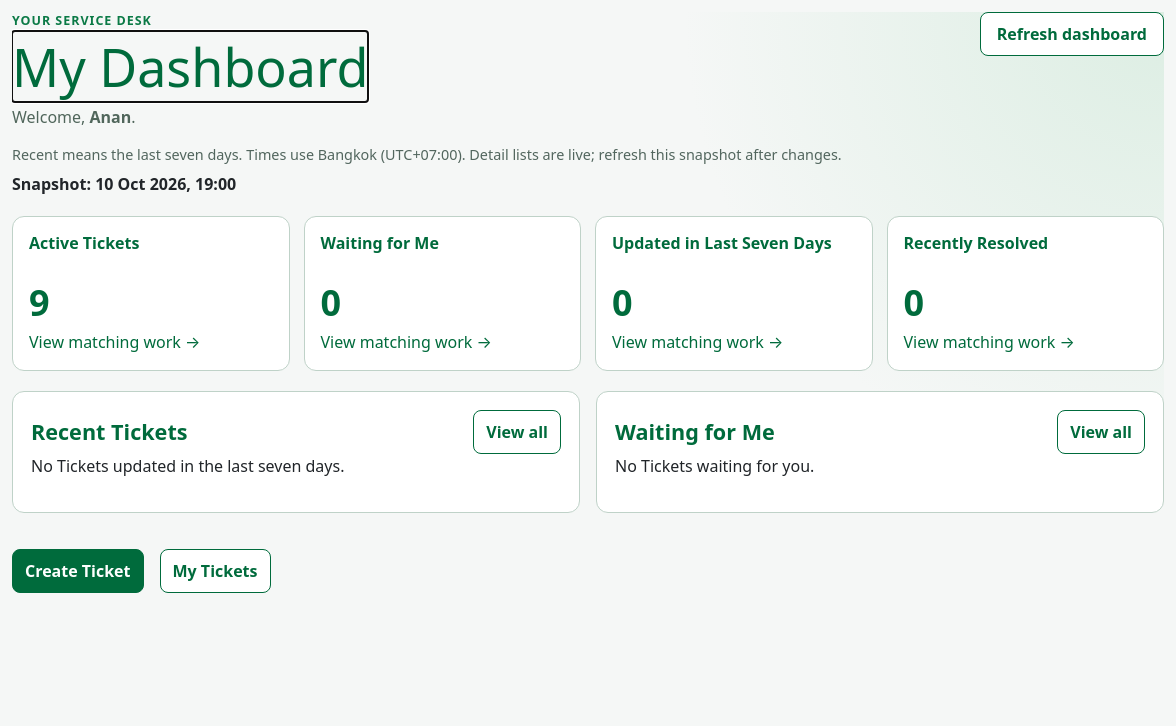
Test case: retains a labelled old snapshot on refresh failure, retries, but clears protected data on 403
Expected: the link "Active Tickets 9 View matching work →" is shown, [12,216,290,371]
Click the button "Refresh dashboard": [1072, 34] box [980,12,1164,56]
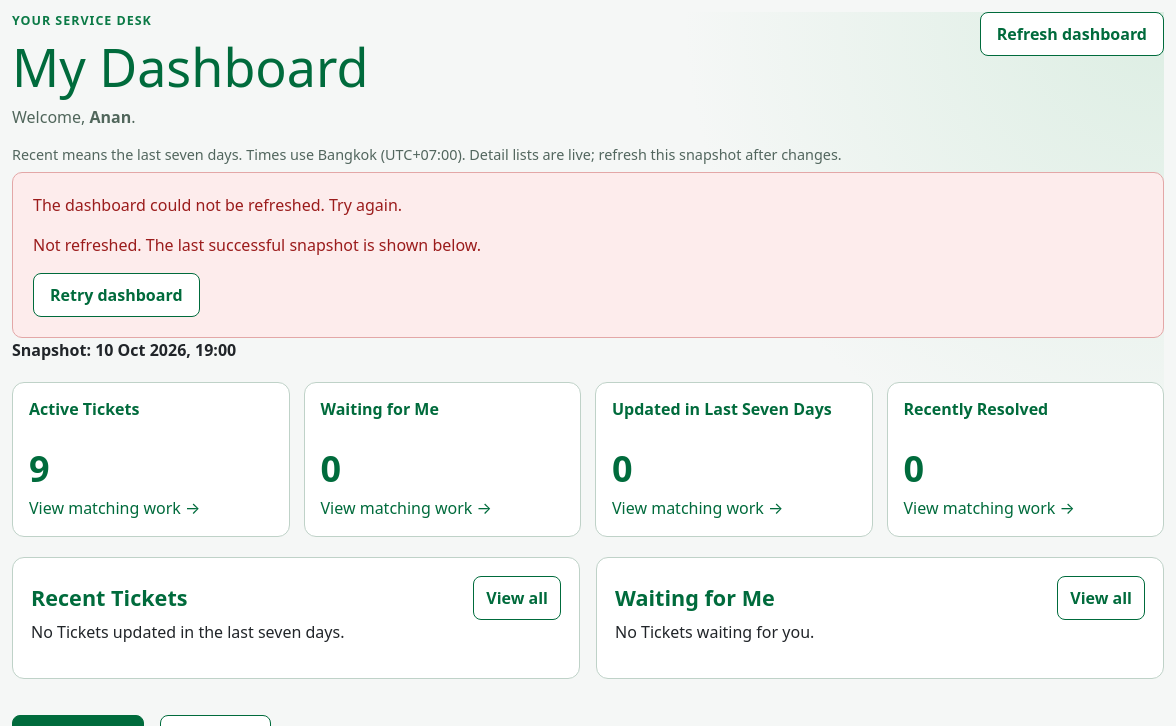
Expected: the link "Active Tickets 9 View matching work →" is shown, [12,382,290,537]
Expected: the message shows "Not refreshed", [33,234,481,256]
Click the button "Retry dashboard": [116, 295] box [33,273,200,317]
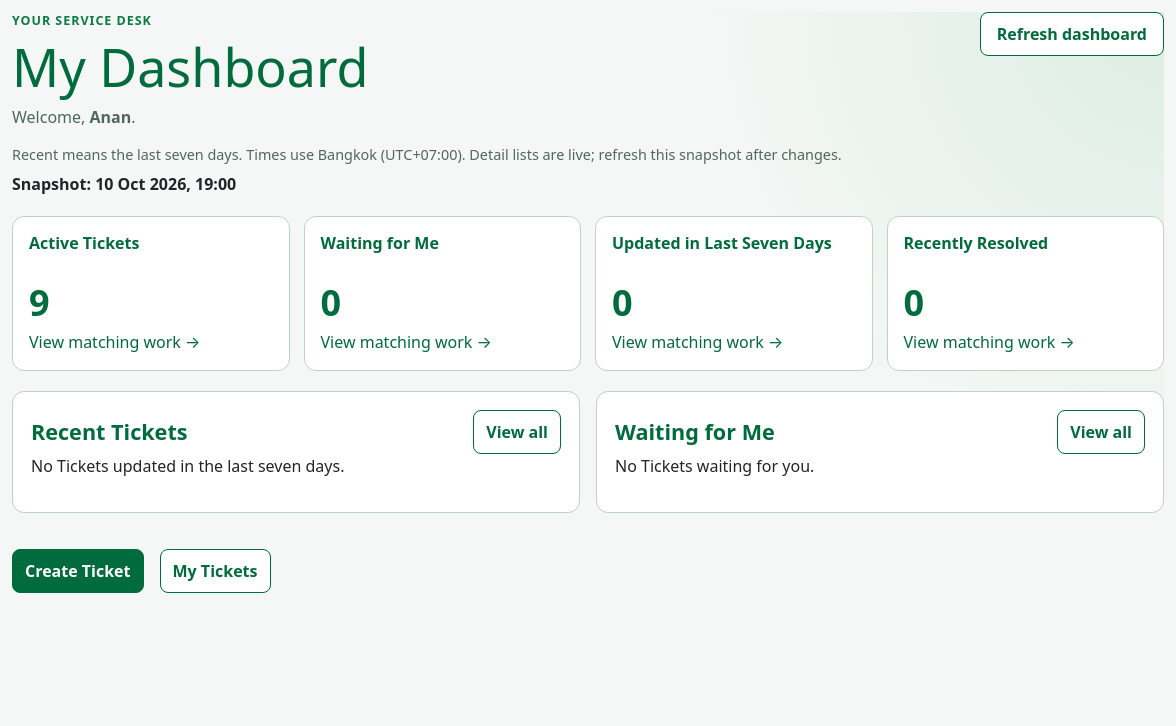
Expected: the message is gone
Click the button "Refresh dashboard": [1072, 34] box [980,12,1164,56]
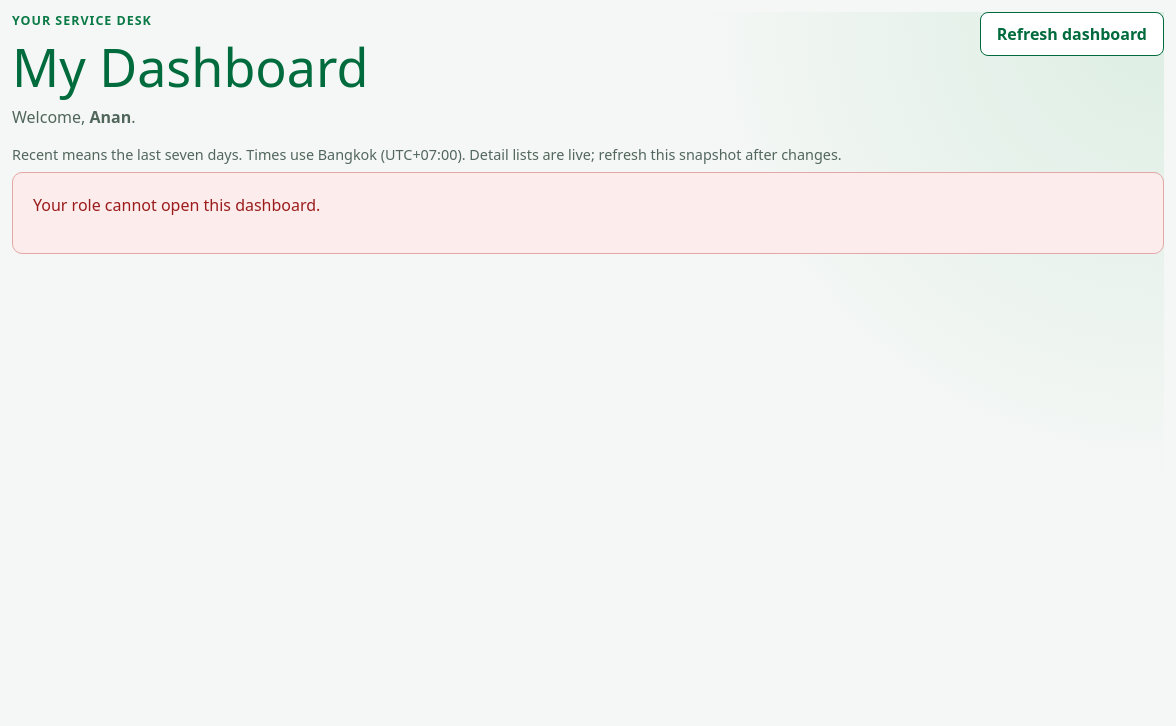
Expected: the message shows "Your role cannot open", [33,194,320,216]
Expected: the link "Active Tickets" is gone
